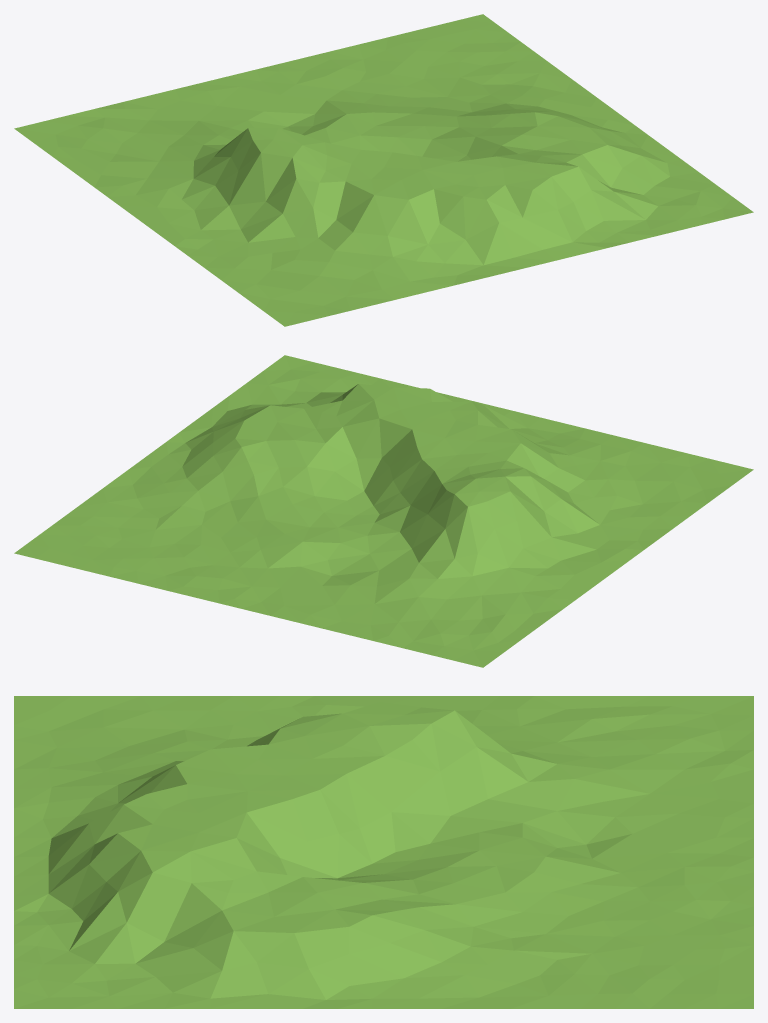
Rendered from MT_Terrain_M_d_19.fbx.
The picture shows the model from 3 angles, top to bottom: view 1: azimuth 30°, elevation 25°; view 2: azimuth 150°, elevation 25°; view 3: azimuth 270°, elevation 25°; orthographic projection. The views are drawn at different scales.
Parts seen in each view (by area): view 1: MT_Terrain_M_d_19; view 2: MT_Terrain_M_d_19; view 3: MT_Terrain_M_d_19.
Part boxes in pixels (x1,y1,x2,y2): MT_Terrain_M_d_19: (14, 14, 753, 326); MT_Terrain_M_d_19: (14, 355, 753, 667); MT_Terrain_M_d_19: (14, 696, 753, 1008).
Size of the model in its own units: 5000 by 574 by 5000.
